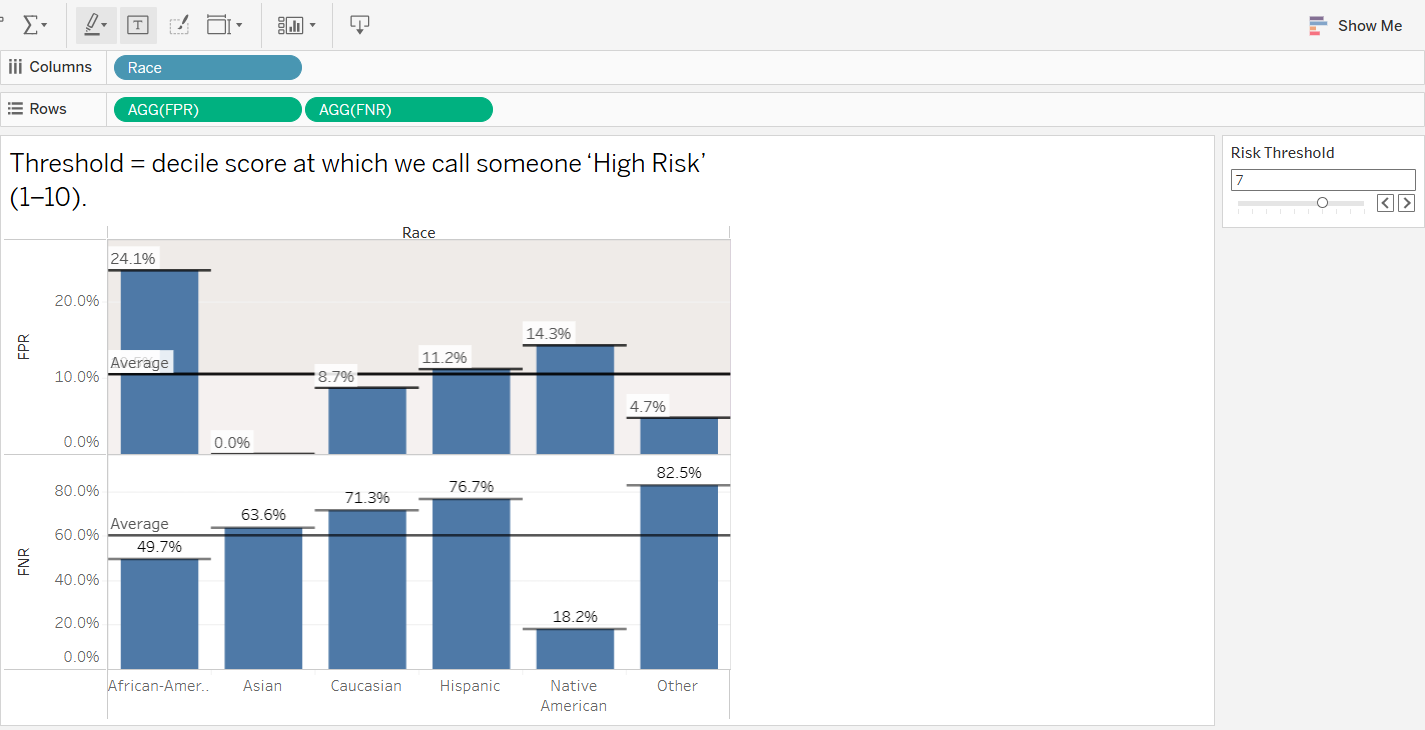

What the dashboard file says about the page in this screenshot:
{"tool":"tableau","page":{"name":"Dashboard 1","canvas":[650,860],"ordinal":0},"visuals":[{"type":"worksheet","title":"03_Bias_Simulator","mark":"Automatic","rows":["Calculation_547468880591769605","Calculation_547468880591855622"],"cols":["race"],"box":[8,8.1,520,843.8]},{"type":"parameter","param":"[Parameters].[Age Cat Parameter]","box":[528,8.1,114,79.7]}]}

Visuals, with their boxes on the page's 650x860 design canvas (x1, y1, x2, y2). These are canvas units, not pixel positions in the 1425x730 screenshot, which may show the page scaled, cropped or inside an application window:
"03_Bias_Simulator" worksheet: <region>8, 8, 528, 852</region>
parameter: <region>528, 8, 642, 88</region>
